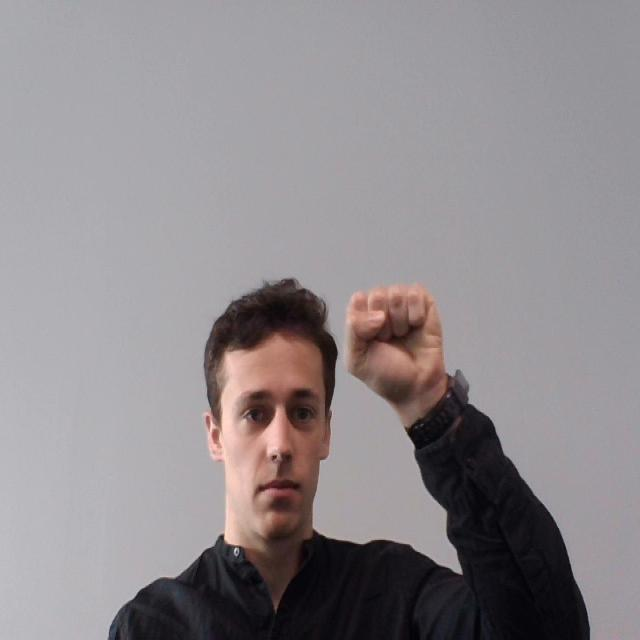stop: (344, 281, 453, 408)
